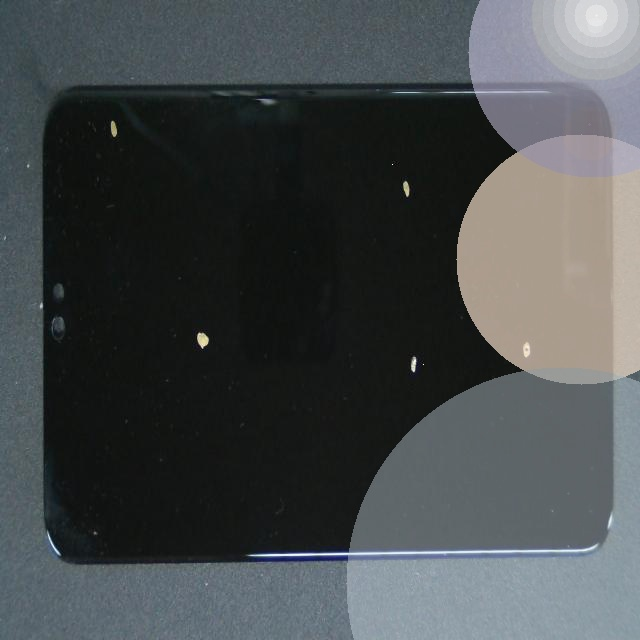stain: (252, 145, 640, 538), (201, 185, 601, 514), (197, 57, 590, 259), (119, 144, 301, 465)
